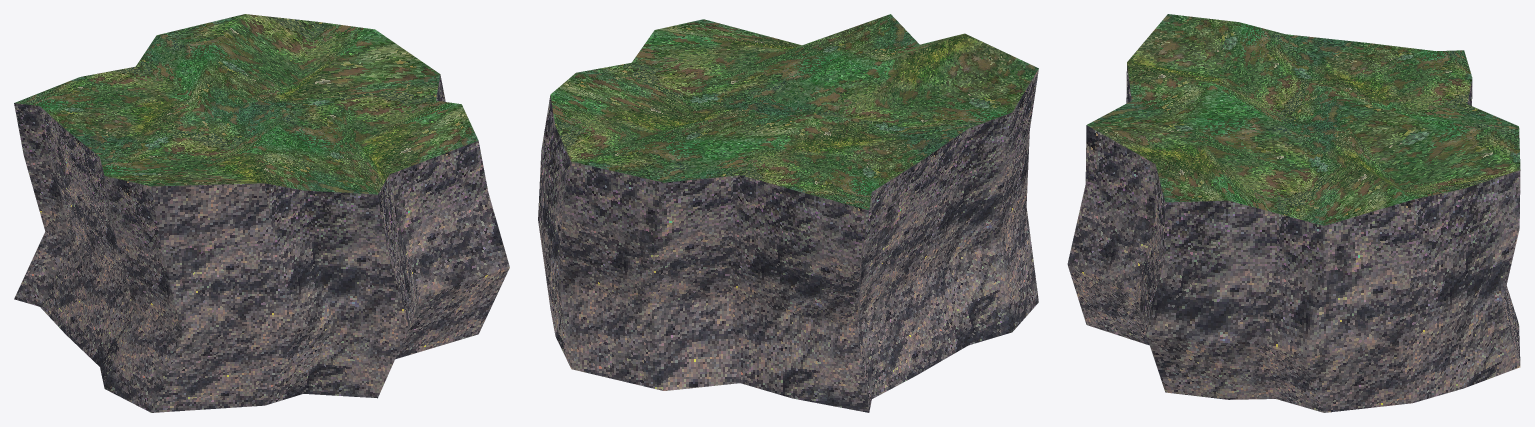
The model's file is plateau.glb.
3 renders of one model, left to right at view 1: azimuth 30°, elevation 25°; view 2: azimuth 150°, elevation 25°; view 3: azimuth 270°, elevation 25°, orthographic. The views are drawn at different scales.
Parts seen in each view (by area): view 1: Plane-col; view 2: Plane-col; view 3: Plane-col.
Boxes of the visible parts, x1,y1,x2,y2 form: Plane-col: (14,14,509,412); Plane-col: (538,14,1038,412); Plane-col: (1067,14,1520,412).
Size of the model in its own units: 21.19 by 11.44 by 21.12.
Materials: 2 (2 with a texture image).
